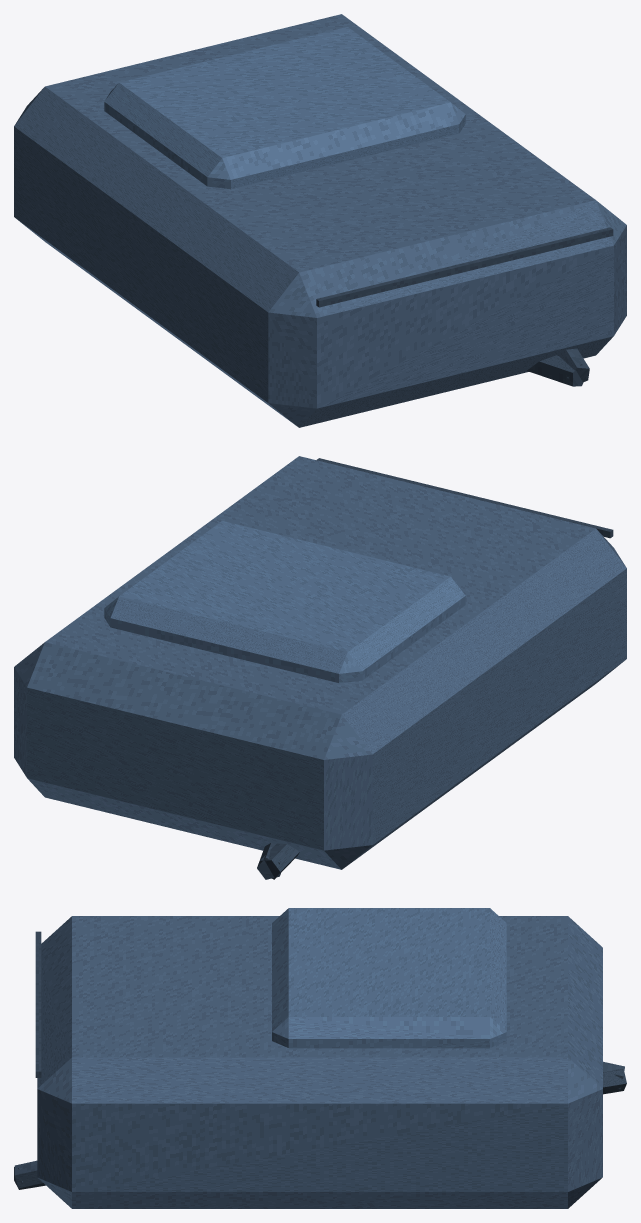
Rendered from slingpack.glb.
The picture shows the model from 3 angles, top to bottom: view 1: azimuth 30°, elevation 25°; view 2: azimuth 150°, elevation 25°; view 3: azimuth 270°, elevation 25°; orthographic projection. The views are drawn at different scales.
Visible parts, largest first — view 1: block_bag body, block_front pocket, block_zipper or closure, block_single diagonal sling 1; view 2: block_bag body, block_front pocket, block_zipper or closure, block_single diagonal sling 0; view 3: block_bag body, block_front pocket, block_zipper or closure, block_single diagonal sling 1, block_single diagonal sling 2.
Part boxes in pixels (x1,y1,x2,y2): block_bag body: (14,14,626,427); block_front pocket: (104,27,465,189); block_zipper or closure: (316,227,613,307); block_single diagonal sling 1: (527,355,582,386); block_bag body: (14,456,626,869); block_front pocket: (104,521,465,683); block_zipper or closure: (316,458,613,538); block_single diagonal sling 0: (260,843,299,879); block_bag body: (37,916,602,1208); block_front pocket: (272,908,506,1048); block_zipper or closure: (35,931,41,1077); block_single diagonal sling 1: (14,1069,626,1189); block_single diagonal sling 2: (14,1160,42,1188).
Size of the model in its own units: 0.29 by 0.1398 by 0.4399.
1 material, 1 textured.
